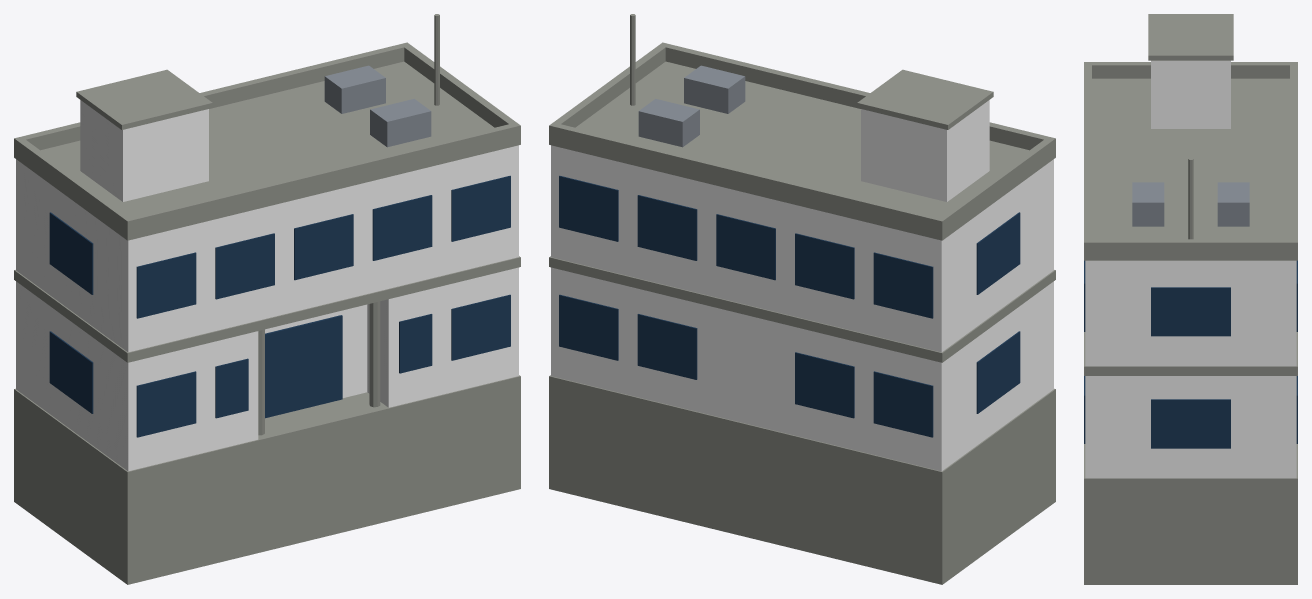
The model's file is site_office.fbx.
The picture shows the model from 3 angles, left to right: view 1: azimuth 30°, elevation 25°; view 2: azimuth 150°, elevation 25°; view 3: azimuth 270°, elevation 25°; orthographic projection. The views are drawn at different scales.
Visible parts, largest first — view 1: a1058/0/site_office; view 2: a1058/0/site_office; view 3: a1058/0/site_office.
Boxes of the visible parts, bbox=[...] form: a1058/0/site_office: bbox=[14, 14, 520, 584]; a1058/0/site_office: bbox=[549, 14, 1055, 584]; a1058/0/site_office: bbox=[1084, 14, 1297, 584].
Bounding box in the file's own units: 12.8 × 13.66 × 6.4.
